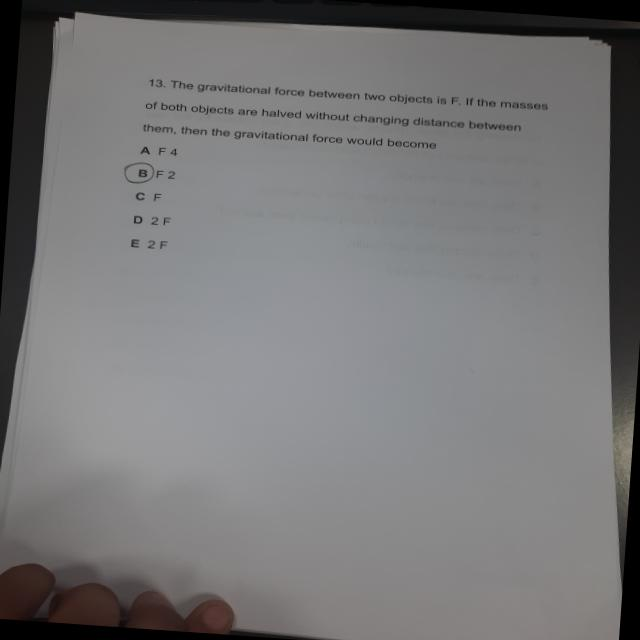B: (121, 161, 160, 187)
